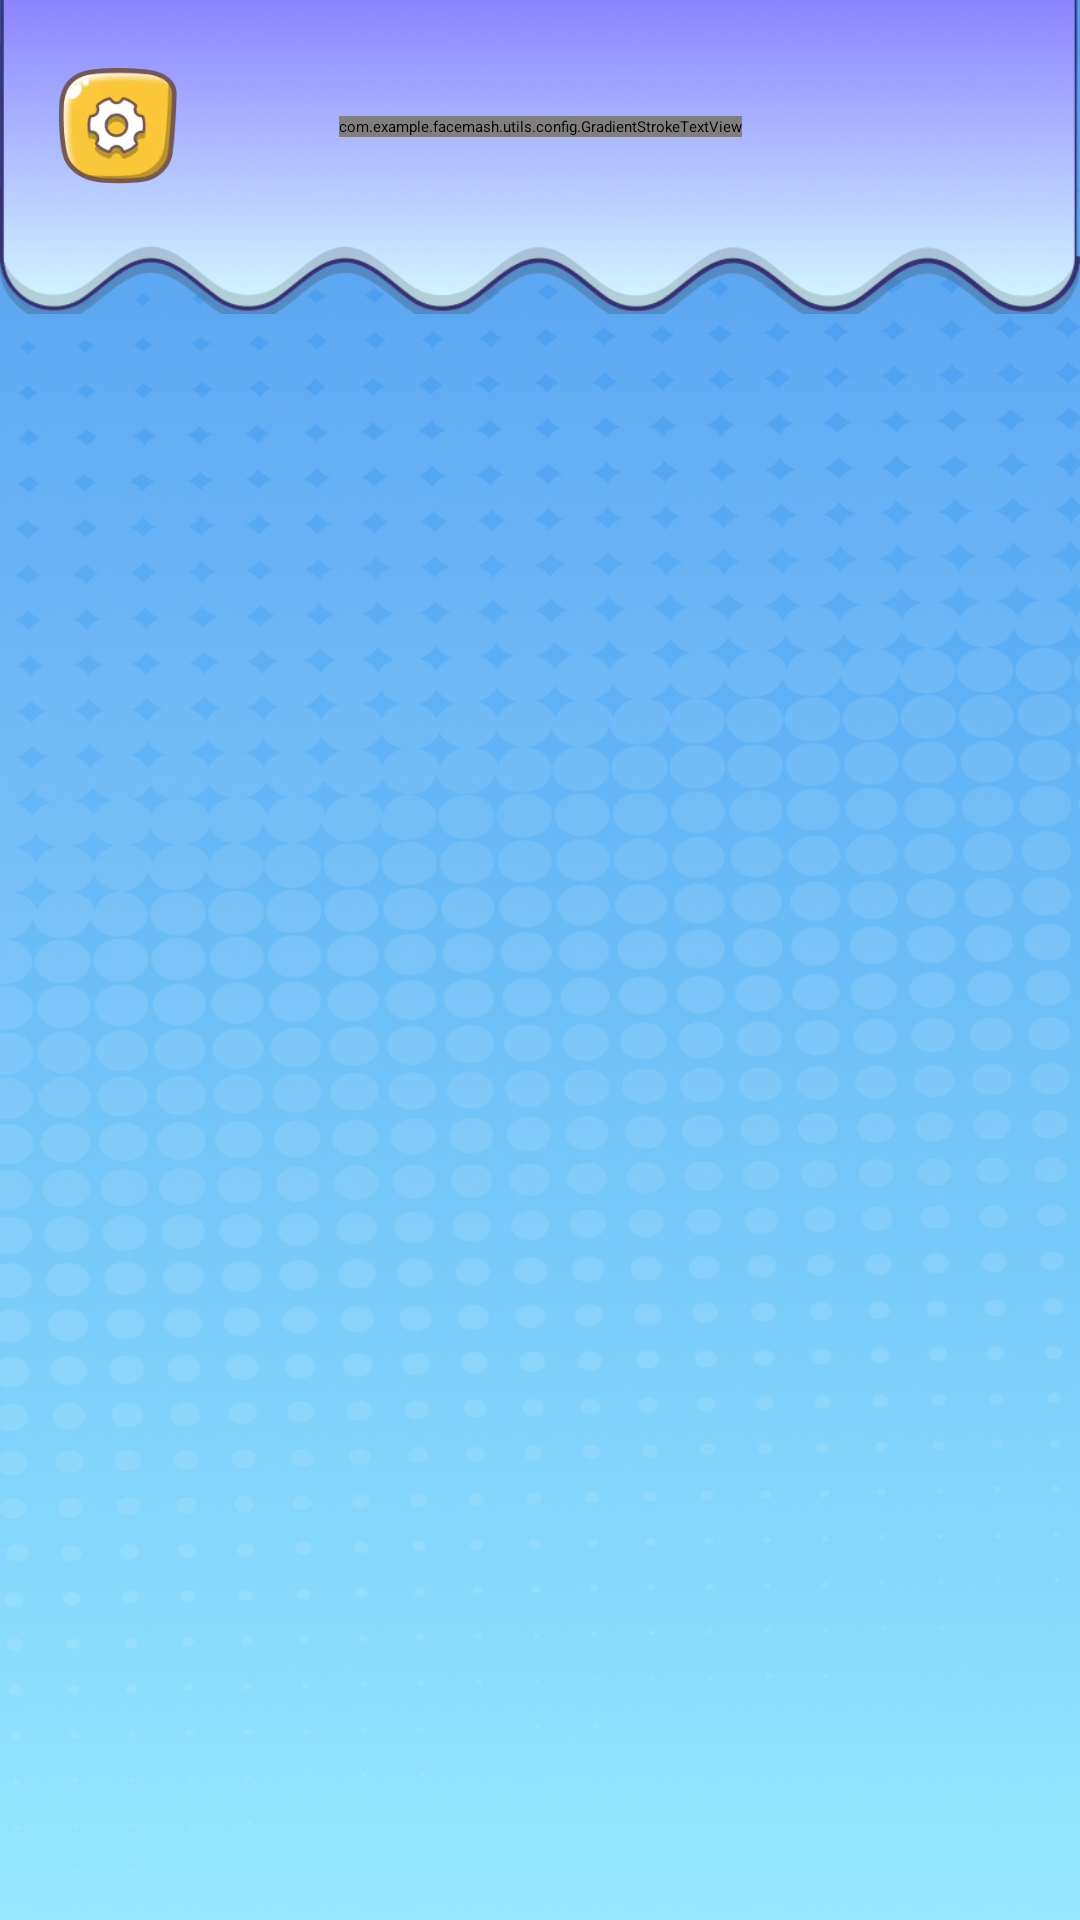

Point at icon controls on the screen. Image size 1080px×1920px, points as [x,y].
setting: [118,126]
